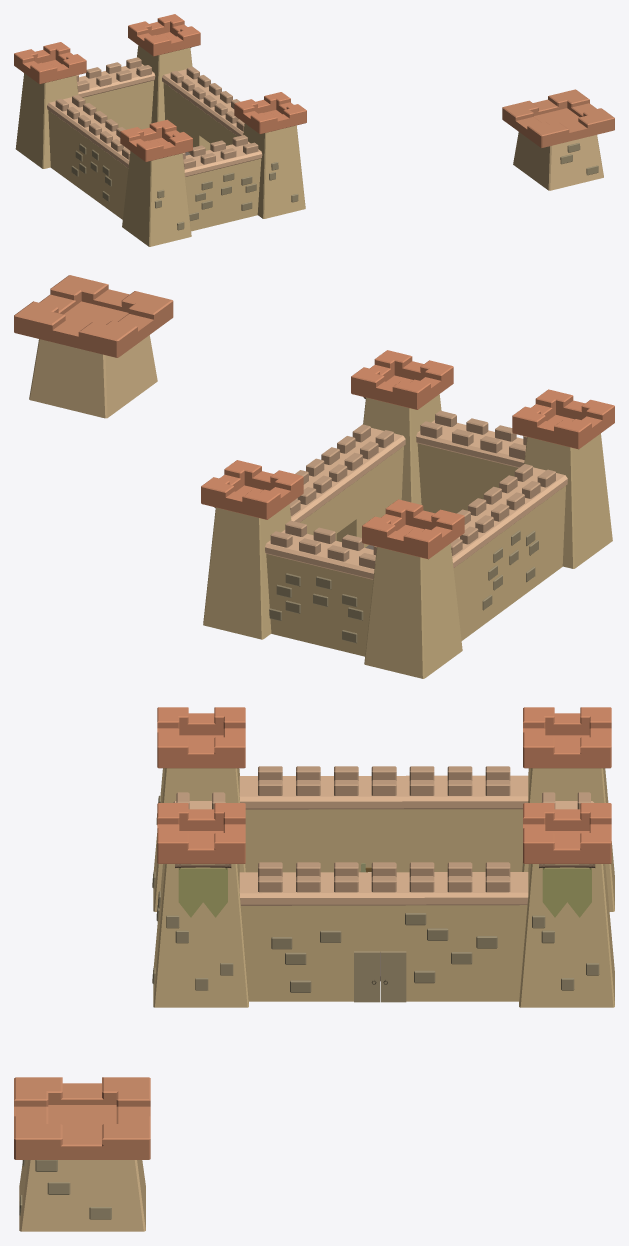
The model's file is castillo-y-torrecita-a.fbx.
The picture shows the model from 3 angles, top to bottom: view 1: azimuth 30°, elevation 25°; view 2: azimuth 150°, elevation 25°; view 3: azimuth 270°, elevation 25°; orthographic projection. The views are drawn at different scales.
Parts seen in each view (by area): view 1: todo:castilloCube.055, todo2:castilloCube.242, todo:castilloCube.266, todo:castilloCube.272, pasted__castilloCube.239, pasted__castilloCube.004, todo:castilloCube.010; view 2: todo:castilloCube.055, todo2:castilloCube.242, todo:castilloCube.266, pasted__castilloCube.239, todo:castilloCube.272, pasted__castilloCube.004, todo:castilloCube.010; view 3: todo:castilloCube.055, todo2:castilloCube.242, todo:castilloCube.272, todo:castilloCube.266, pasted__castilloCube.239, pasted__castilloCube.004, todo:castilloCube.010, todo:castillopCube815, todo:castilloCube.137.
Part boxes in pixels (left/top/right/bottom): todo:castilloCube.055: left=15, top=45, right=305, bottom=246; todo2:castilloCube.242: left=14, top=14, right=306, bottom=161; todo:castilloCube.266: left=55, top=57, right=258, bottom=169; todo:castilloCube.272: left=47, top=64, right=262, bottom=176; pasted__castilloCube.239: left=502, top=89, right=614, bottom=147; pasted__castilloCube.004: left=513, top=132, right=603, bottom=190; todo:castilloCube.010: left=71, top=143, right=598, bottom=230; todo:castilloCube.055: left=203, top=394, right=612, bottom=678; todo2:castilloCube.242: left=201, top=350, right=614, bottom=559; todo:castilloCube.266: left=270, top=410, right=555, bottom=568; pasted__castilloCube.239: left=14, top=275, right=173, bottom=357; todo:castilloCube.272: left=265, top=420, right=567, bottom=579; pasted__castilloCube.004: left=29, top=335, right=157, bottom=418; todo:castilloCube.010: left=269, top=530, right=538, bottom=643; todo:castilloCube.055: left=153, top=768, right=614, bottom=1007; todo2:castilloCube.242: left=157, top=707, right=611, bottom=863; todo:castilloCube.272: left=173, top=775, right=593, bottom=905; todo:castilloCube.266: left=176, top=766, right=590, bottom=892; pasted__castilloCube.239: left=14, top=1077, right=150, bottom=1159; pasted__castilloCube.004: left=19, top=1160, right=145, bottom=1231; todo:castilloCube.010: left=19, top=795, right=599, bottom=1219; todo:castillopCube815: left=178, top=868, right=591, bottom=917; todo:castilloCube.137: left=354, top=951, right=406, bottom=1002.
Size of the model in its own units: 316 by 70.96 by 223.
